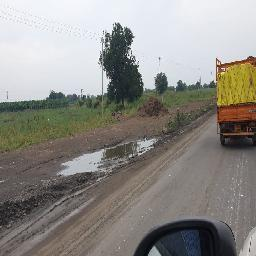water accumulation: (58, 136, 159, 177)
